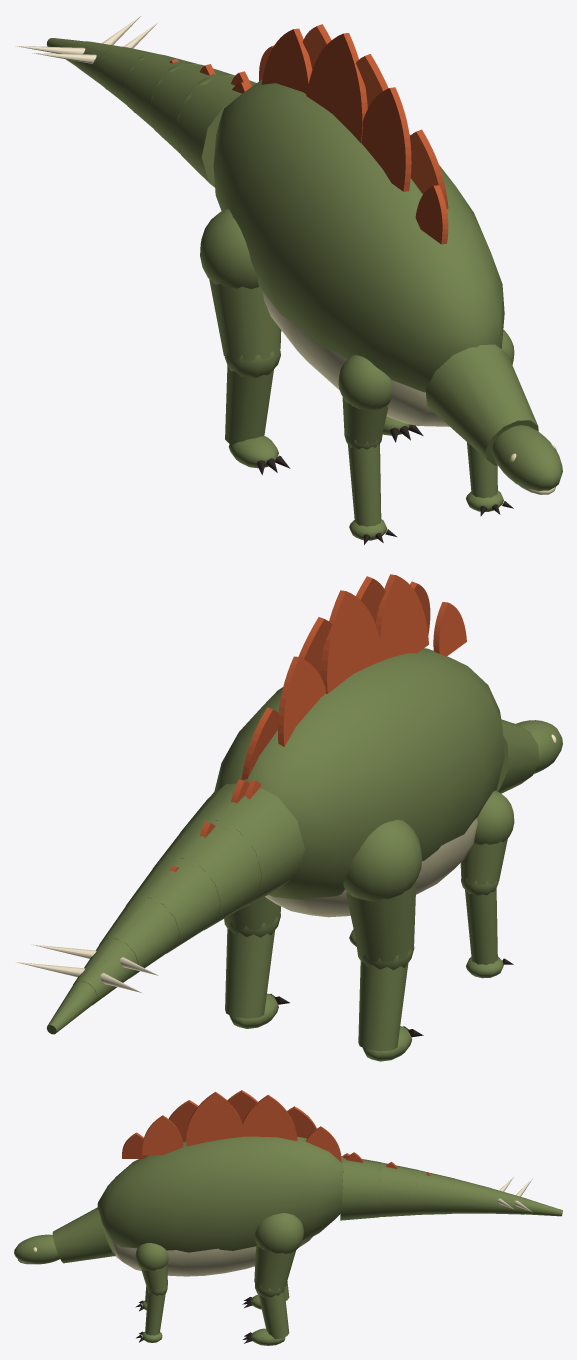
Rendered from dino_stego.glb.
3 views of the same model, one above another, from view 1: azimuth 30°, elevation 25°; view 2: azimuth 150°, elevation 25°; view 3: azimuth 270°, elevation 25° (orthographic). The views are drawn at different scales.
Parts seen in each view (by area): view 1: dino_hips, dino_neckBase, dino_legs_2_hip, dino_tail_0_p, dino_legs_2_knee, dino_legs_0_hip, dino_head, dino_tail_1_p, dino_legs_0_knee, dino_tail_2_p, dino_tail_4_p, dino_tail_3_p (+2 smaller); view 2: dino_hips, dino_legs_2_hip, dino_tail_0_p, dino_tail_1_p, dino_tail_2_p, dino_legs_2_knee, dino_legs_3_knee, dino_tail_3_p, dino_tail_4_p, dino_legs_0_hip, dino_legs_0_knee, dino_neckBase (+5 smaller); view 3: dino_hips, dino_legs_3_hip, dino_tail_0_p, dino_neckBase, dino_tail_1_p, dino_tail_2_p, dino_legs_1_hip, dino_legs_3_knee, dino_tail_3_p, dino_head, dino_tail_4_p, dino_legs_1_knee (+2 smaller).
Part boxes in pixels (box(x1,y1,x2,y2)): dino_hips: box(213, 24, 504, 426); dino_neckBase: box(425, 344, 538, 465); dino_legs_2_hip: box(200, 209, 281, 360); dino_tail_0_p: box(174, 71, 256, 187); dino_legs_2_knee: box(224, 346, 280, 445); dino_legs_0_hip: box(338, 355, 392, 444); dino_head: box(492, 425, 562, 491); dino_tail_1_p: box(148, 64, 234, 153); dino_legs_0_knee: box(344, 434, 382, 526); dino_tail_2_p: box(123, 54, 199, 137); dino_tail_4_p: box(15, 15, 158, 89); dino_tail_3_p: box(97, 46, 161, 112); dino_hips: box(214, 574, 504, 917); dino_legs_2_hip: box(343, 819, 421, 962); dino_tail_0_p: box(180, 779, 304, 908); dino_tail_1_p: box(152, 817, 262, 930); dino_tail_2_p: box(126, 855, 221, 953); dino_legs_2_knee: box(356, 946, 414, 1051); dino_legs_3_knee: box(224, 914, 280, 1018); dino_tail_3_p: box(99, 895, 180, 978); dino_tail_4_p: box(15, 936, 158, 1005); dino_legs_0_hip: box(460, 790, 514, 884); dino_legs_0_knee: box(461, 875, 498, 964); dino_neckBase: box(496, 719, 539, 793); dino_hips: box(97, 1090, 349, 1276); dino_legs_3_hip: box(254, 1213, 303, 1290); dino_tail_0_p: box(340, 1152, 381, 1220); dino_neckBase: box(52, 1207, 115, 1263); dino_tail_1_p: box(376, 1162, 418, 1217); dino_tail_2_p: box(413, 1170, 455, 1214); dino_legs_1_hip: box(135, 1243, 168, 1291); dino_legs_3_knee: box(255, 1281, 289, 1339); dino_tail_3_p: box(449, 1178, 491, 1213); dino_head: box(14, 1234, 59, 1264); dino_tail_4_p: box(486, 1176, 532, 1214); dino_legs_1_knee: box(145, 1285, 167, 1335).
Size of the model in its own units: 2.52 by 4.95 by 10.43.
